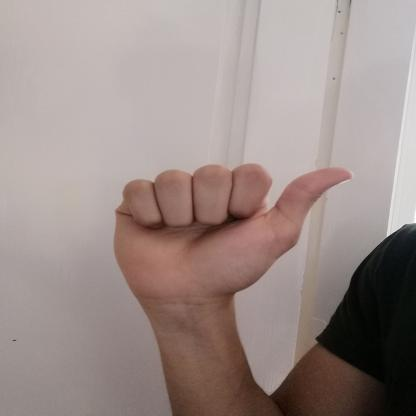DAD: (99, 152, 364, 312)
